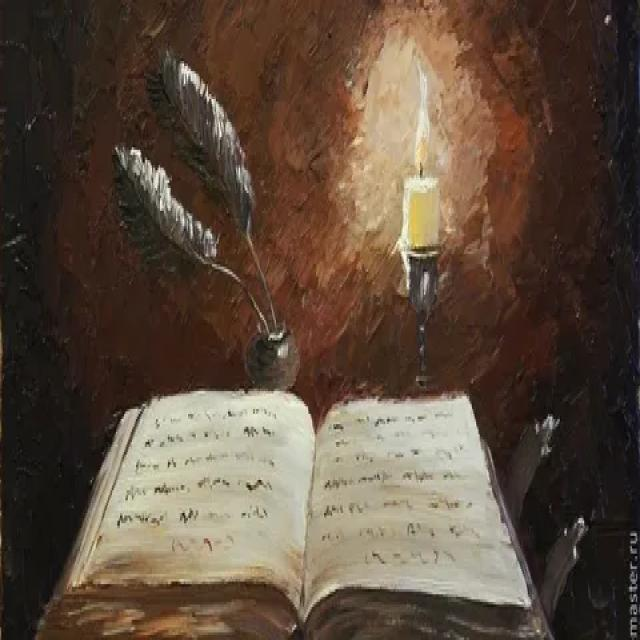book: (32, 376, 567, 640)
